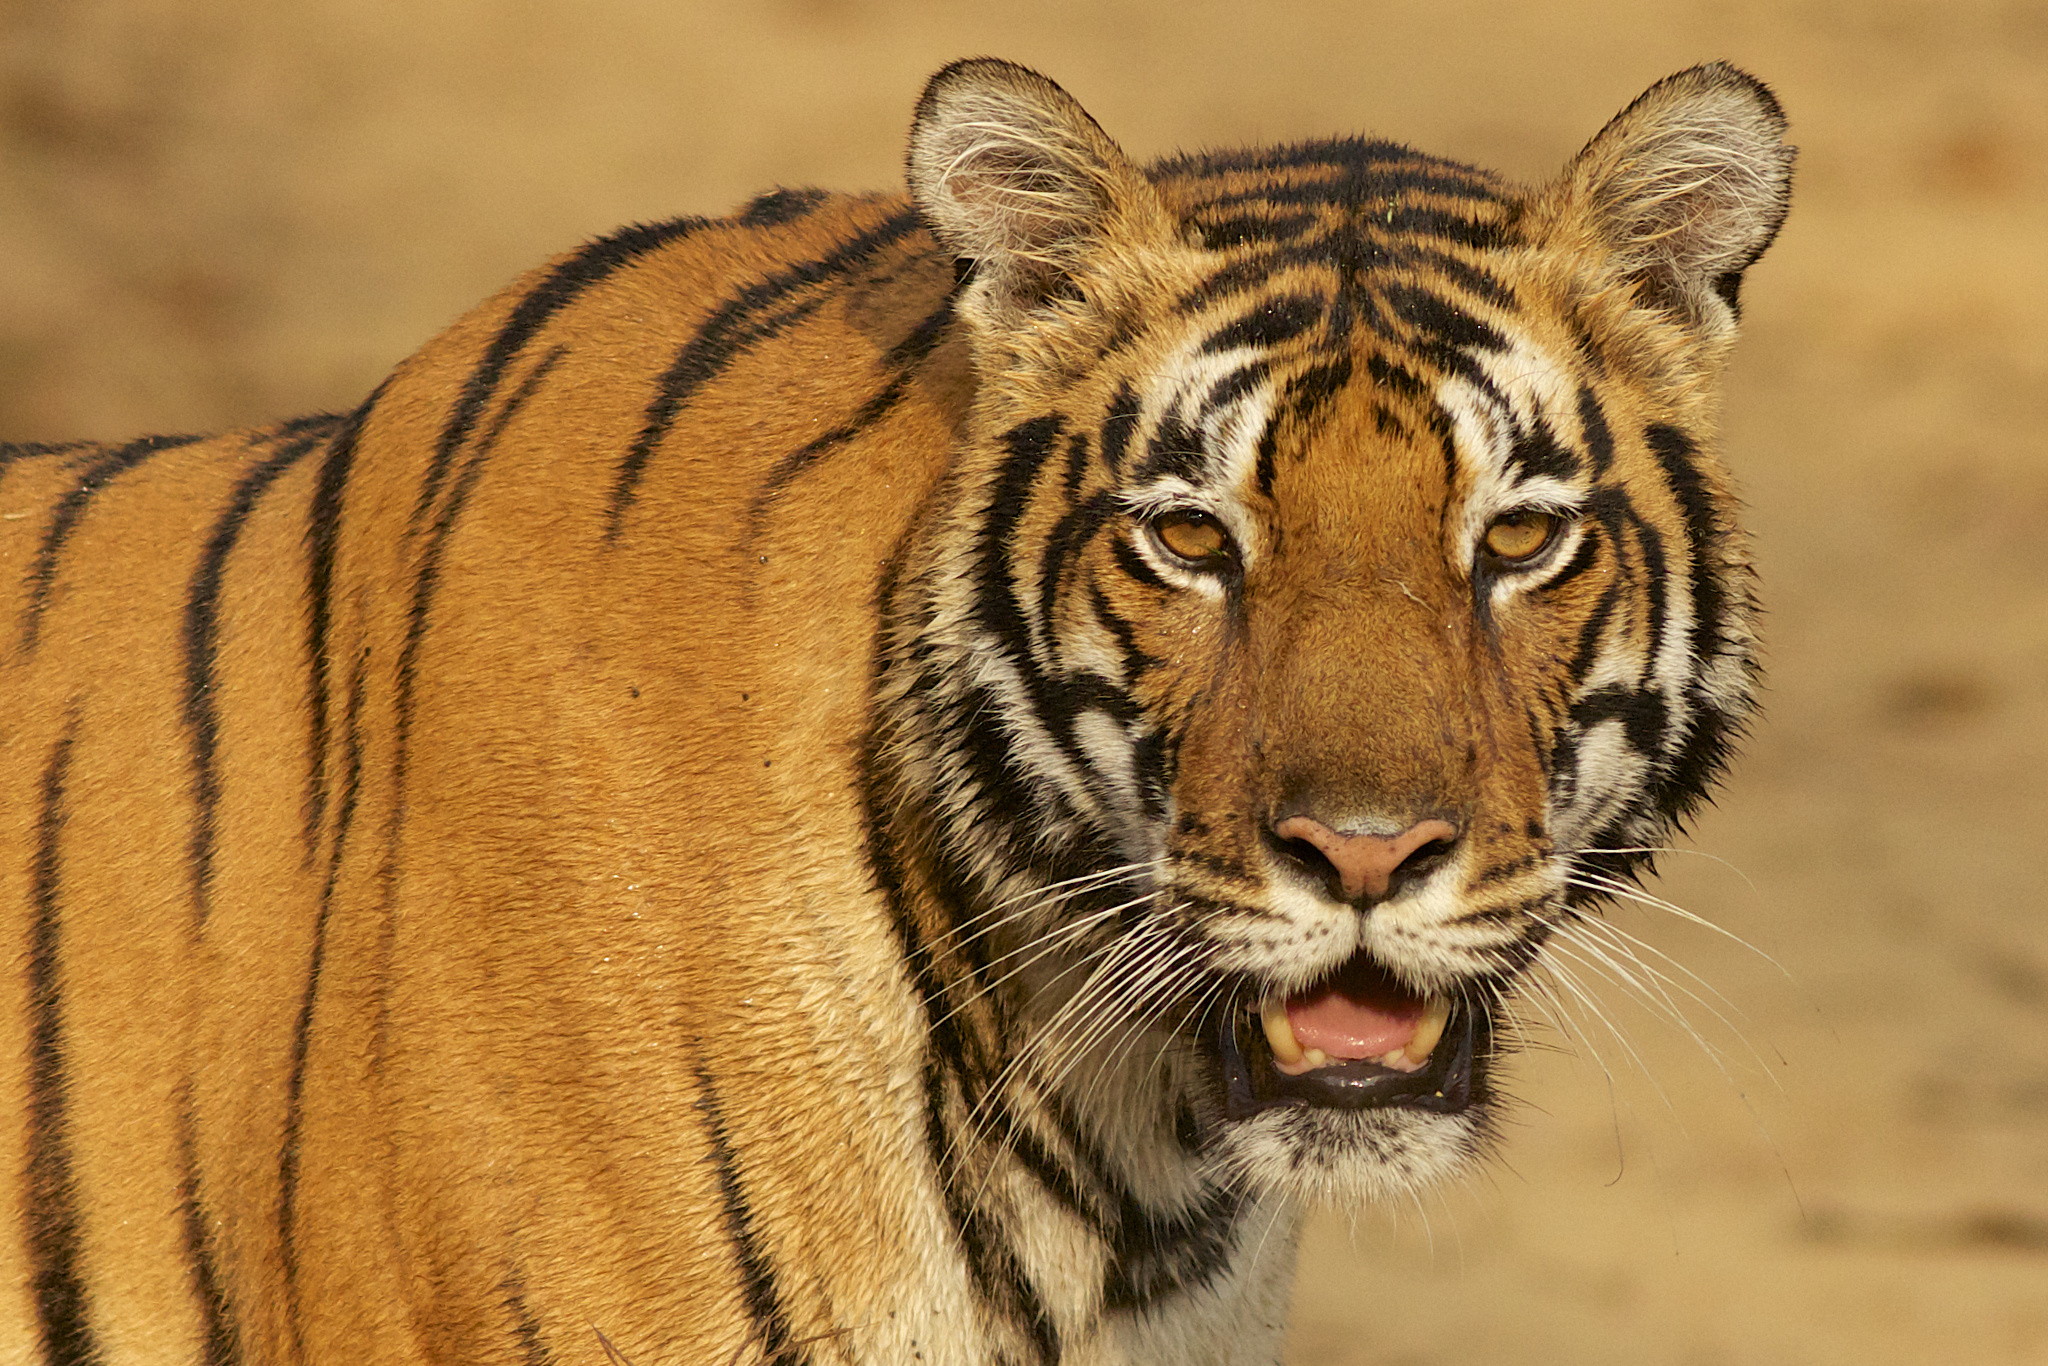tiger: (133, 53, 1800, 1233)
